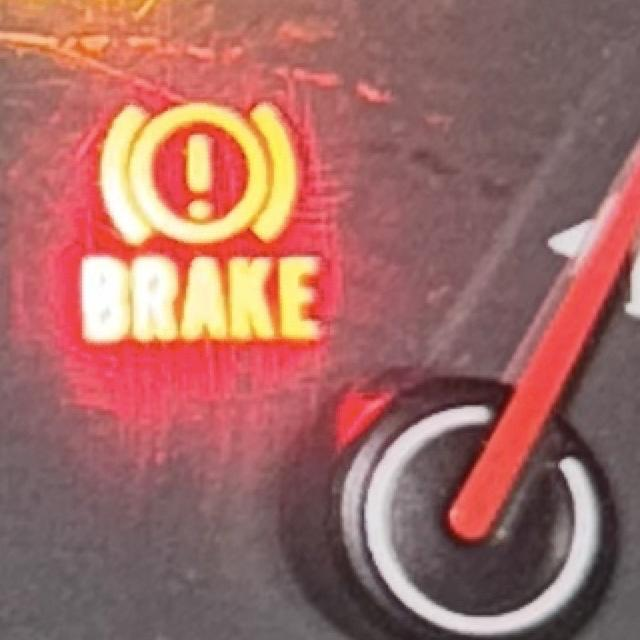Break System Issue: (81, 99, 330, 347)
